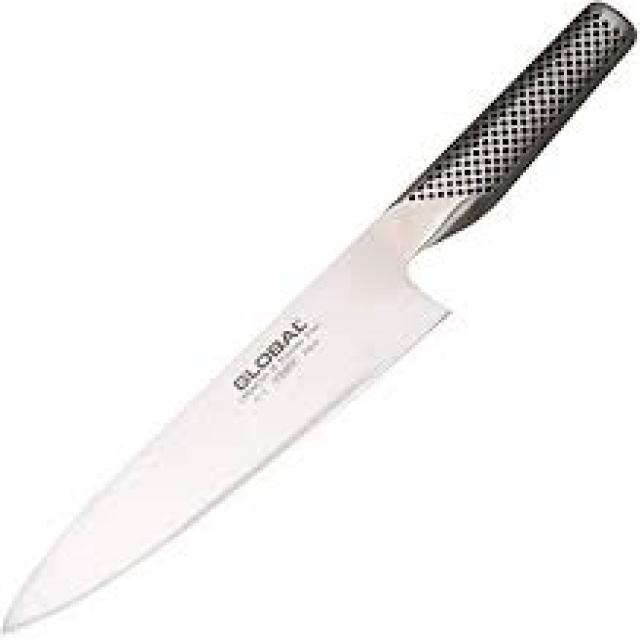knife: (2, 1, 640, 638)
